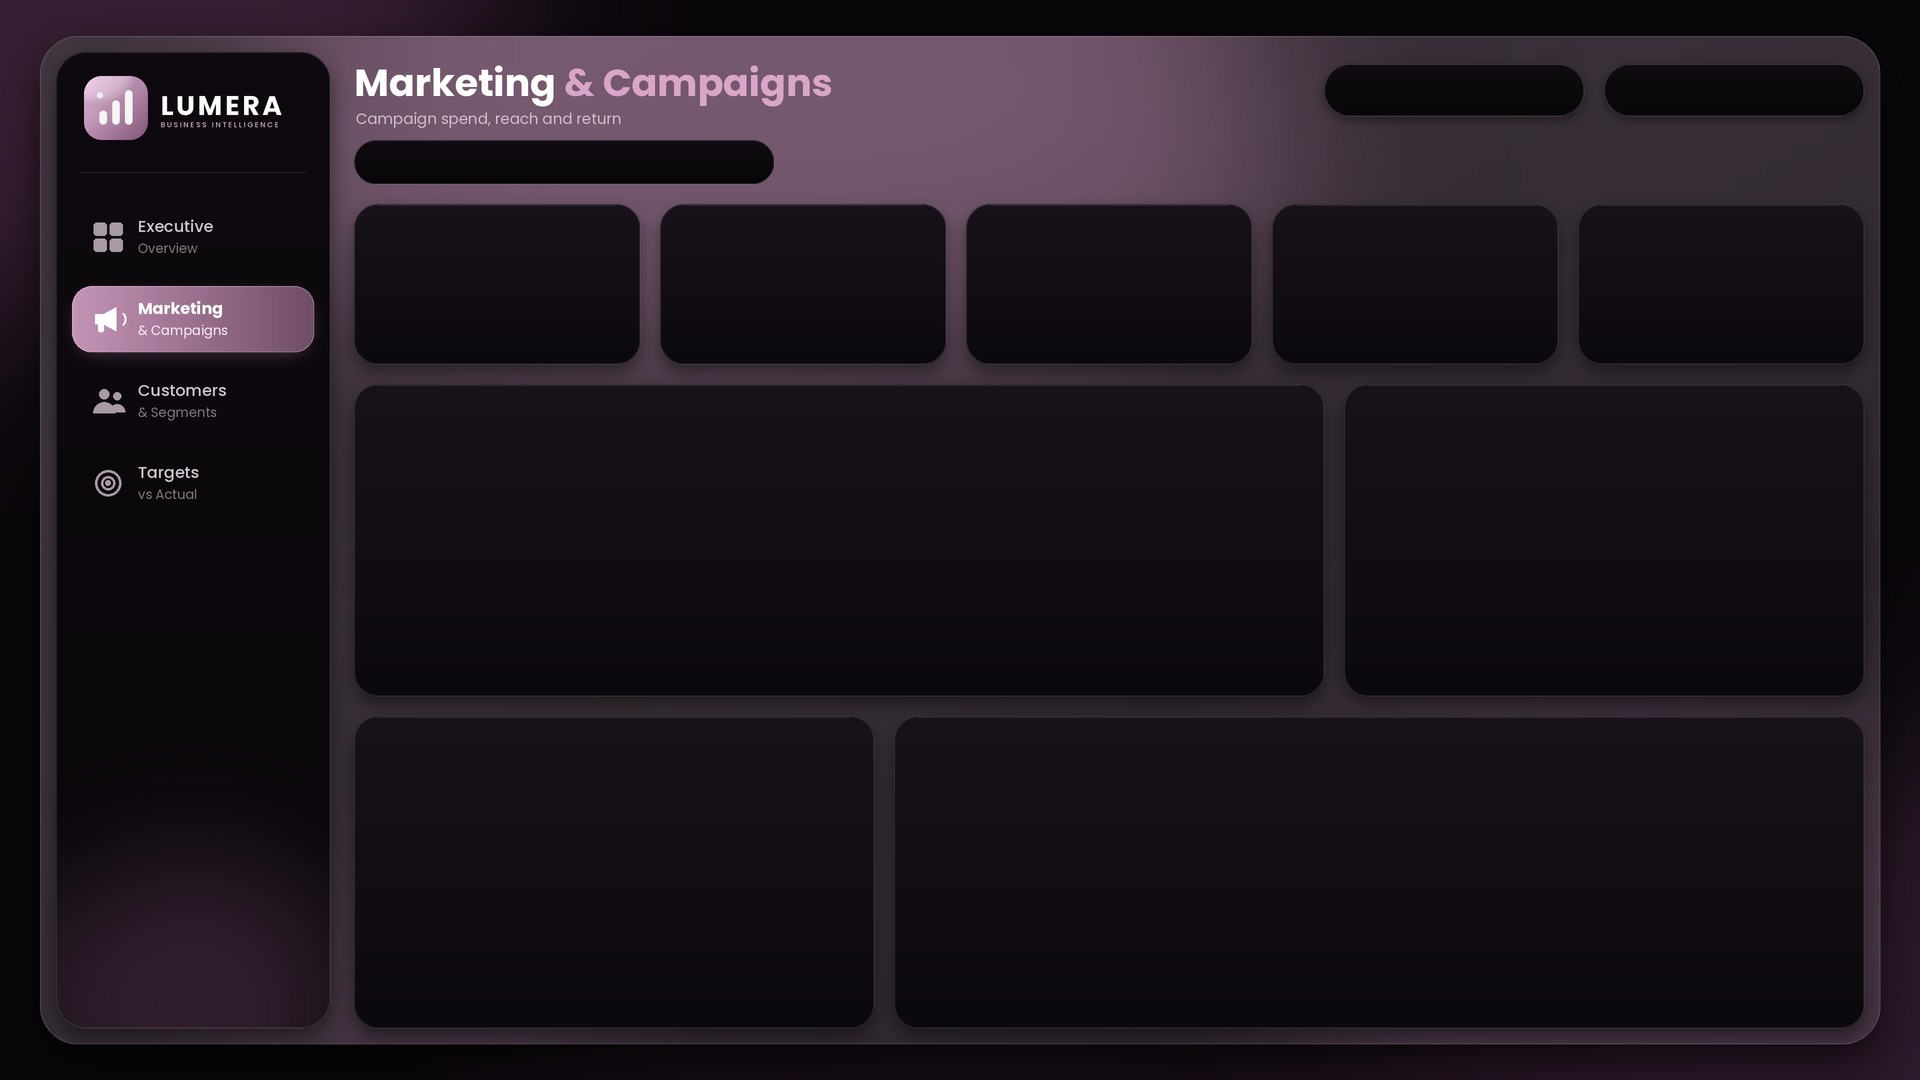

This screenshot's page, from the dashboard's own definition file:
{"tool":"powerbi","page":{"name":"Marketing & Campaigns","canvas":[1280,720],"ordinal":1},"visuals":[{"type":"cardVisual","fields":{"Data":["_measures.Marketing Spend"]},"box":[433.8,138.7,195.6,102.2],"z":0},{"type":"cardVisual","fields":{"Data":["_measures.Impressions"]},"box":[640,128,195.6,124.4],"z":1000},{"type":"cardVisual","fields":{"Data":["_measures.CTR %"]},"box":[1050.7,136,186.7,108.4],"z":2000},{"type":"cardVisual","fields":{"Data":["_measures.Clicks"]},"box":[841.8,132.8,208.7,112.1],"z":3000},{"type":"cardVisual","fields":{"Data":["_measures.Campaign Budget"]},"box":[227.6,139.6,195.6,101.3],"z":4000},{"type":"gauge","fields":{"MaxValue":["_measures.Campaign Budget"],"Y":["_measures.Marketing Spend"]},"box":[896,259.6,348.4,207.1],"z":6000},{"type":"funnel","title":"CTR % by Campaign Name","fields":{"Category":["dim_campaign.campaign_name"],"Y":["_measures.CTR %"]},"box":[605.3,482.7,632,198.2],"z":6001},{"type":"lineChart","title":"Marketing Spend per Month","fields":{"Category":["dim_date.Month_name"],"Y":["_measures.Marketing Spend"]},"box":[240,482.7,341.3,212.4],"z":6003},{"type":"lineChart","title":"Impressions and Clicks per Month","fields":{"Category":["dim_date.Date.Variation.Date Hierarchy.Month"],"Y":["_measures.Impressions","_measures.Clicks"]},"box":[240,259.6,640,196.4],"z":6004},{"type":"pageNavigator","box":[39.9,121.6,175.1,226.6],"z":6005},{"type":"slicer","fields":{"Values":["dim_date.year"]},"box":[885.3,35.6,166.2,54.2],"z":6006},{"type":"slicer","fields":{"Values":["dim_campaign.channel"]},"box":[1071.1,35.6,173.3,54.2],"z":6007},{"type":"htmlContent443BE3AD55E043BF878BED274D3A6855","fields":{"content":["_measures.Animated Name"]},"box":[222.2,86.2,336,48],"z":6008}]}

Visuals, with their boxes in screenshot pixels (x1, y1, x2, y2), scaled from the page's 1280x720 canvas onto the 1920x1080 screenshot:
cardVisual - _measures.Marketing Spend: <box>651,208,944,361</box>
cardVisual - _measures.Impressions: <box>960,192,1253,379</box>
cardVisual - _measures.CTR %: <box>1576,204,1856,367</box>
cardVisual - _measures.Clicks: <box>1263,199,1576,367</box>
cardVisual - _measures.Campaign Budget: <box>341,209,635,361</box>
gauge - _measures.Campaign Budget x _measures.Marketing Spend: <box>1344,389,1867,700</box>
"CTR % by Campaign Name" funnel: <box>908,724,1856,1021</box>
"Marketing Spend per Month" lineChart: <box>360,724,872,1043</box>
"Impressions and Clicks per Month" lineChart: <box>360,389,1320,684</box>
pageNavigator: <box>60,182,322,522</box>
slicer - dim_date.year: <box>1328,53,1577,135</box>
slicer - dim_campaign.channel: <box>1607,53,1867,135</box>
htmlContent443BE3AD55E043BF878BED274D3A6855 - _measures.Animated Name: <box>333,129,837,201</box>
